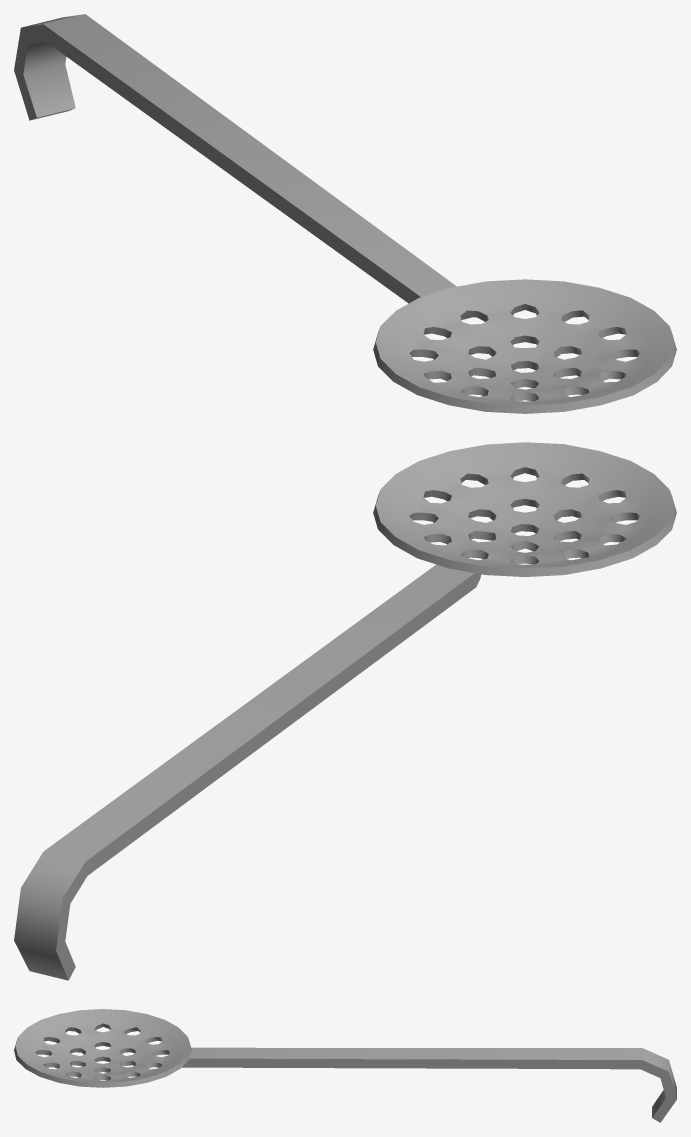
Rendered from Skimmer_01.fbx.
3 views of the same model, one above another, from view 1: azimuth 30°, elevation 25°; view 2: azimuth 150°, elevation 25°; view 3: azimuth 270°, elevation 25° (orthographic). The views are drawn at different scales.
Parts seen in each view (by area): view 1: Skimmer_01; view 2: Skimmer_01; view 3: Skimmer_01.
Part boxes in pixels (x1,y1,x2,y2): Skimmer_01: (14,14,676,413); Skimmer_01: (14,442,676,980); Skimmer_01: (14,1009,676,1122).
Size of the model in its own units: 0.0963 by 0.0426 by 0.3586.
